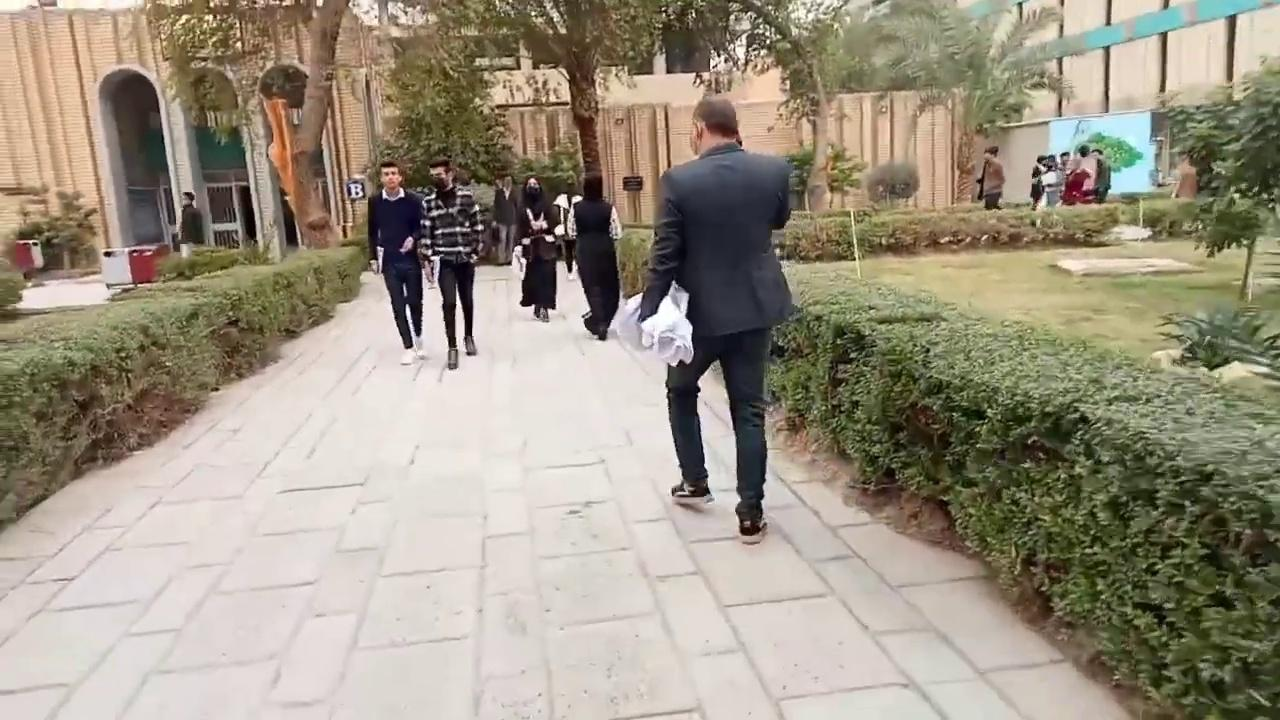person: (637, 95, 794, 544), (417, 157, 484, 369), (366, 160, 430, 365), (572, 173, 623, 340), (512, 175, 562, 322), (551, 178, 583, 281), (492, 173, 520, 266), (976, 145, 1005, 210), (177, 191, 203, 258), (1171, 150, 1198, 200)
tree: (766, 269, 1280, 720), (1, 236, 367, 526), (143, 0, 355, 256), (427, 0, 666, 203), (840, 0, 1074, 207), (677, 0, 868, 212), (1153, 52, 1279, 303), (376, 35, 517, 190), (9, 181, 100, 272), (1068, 128, 1144, 173), (822, 139, 867, 210), (860, 157, 920, 207), (537, 135, 583, 196), (785, 143, 816, 211)
